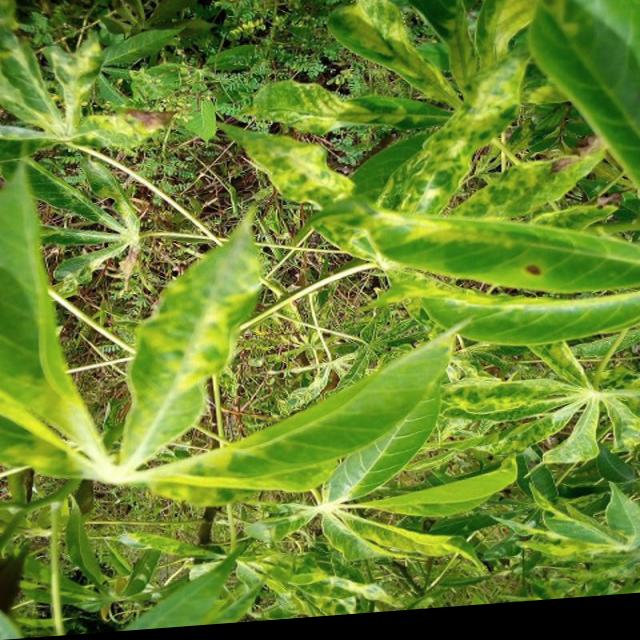Mosaico: (13, 204, 437, 548), (270, 2, 634, 228), (0, 0, 182, 156), (485, 327, 640, 483)
